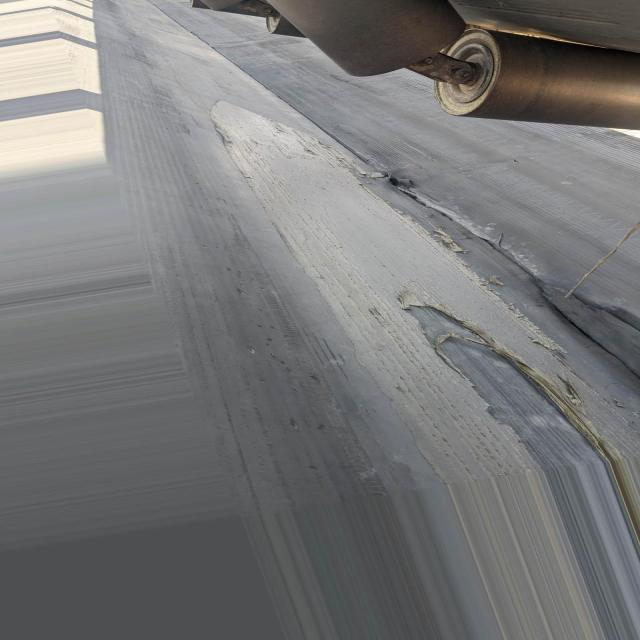Roller: (431, 27, 640, 129), (268, 0, 462, 78)
Tear: (365, 173, 639, 436), (411, 307, 606, 467)
